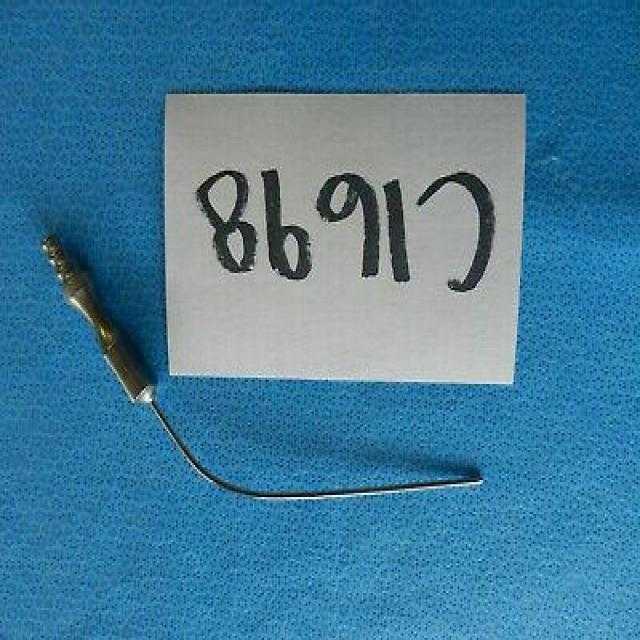Frazier: (40, 222, 485, 512)
